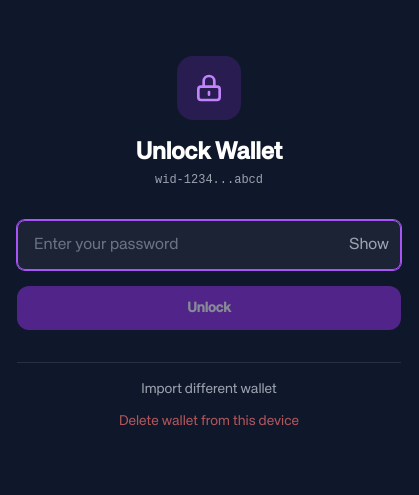
Test case: UnlockWalletPage › should cancel delete
Click the button "Delete wallet from this device". click: click(209, 420)
box: [17, 410, 401, 430]
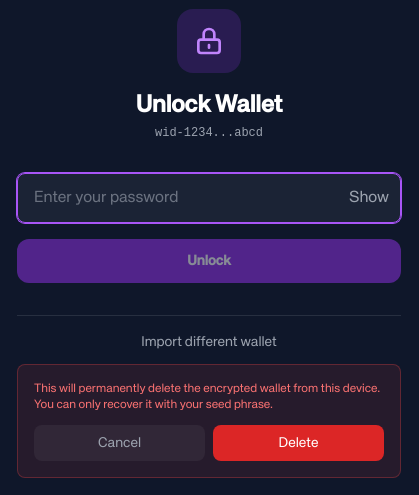
Click the button "Cancel". click: click(120, 442)
box: [34, 424, 205, 460]
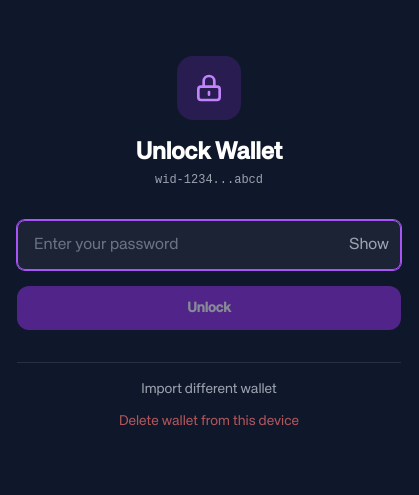
expect the button "Delete wallet from this device" is shown: met, box [17, 410, 401, 430]
